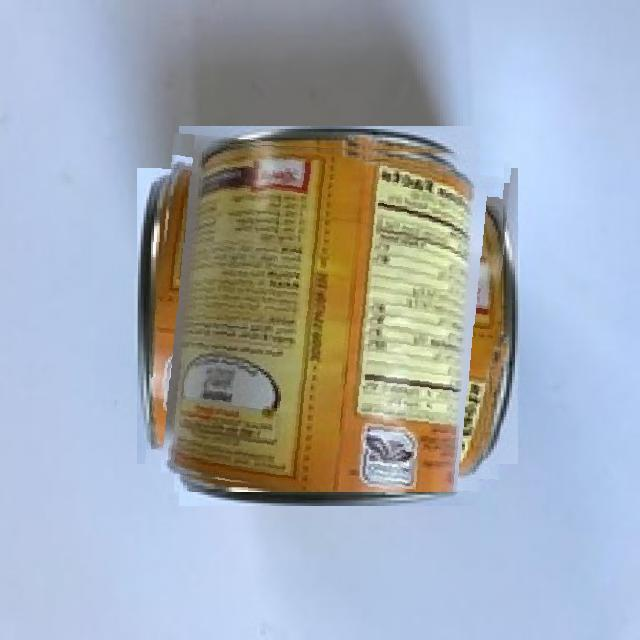recyclable: (151, 140, 504, 492)
